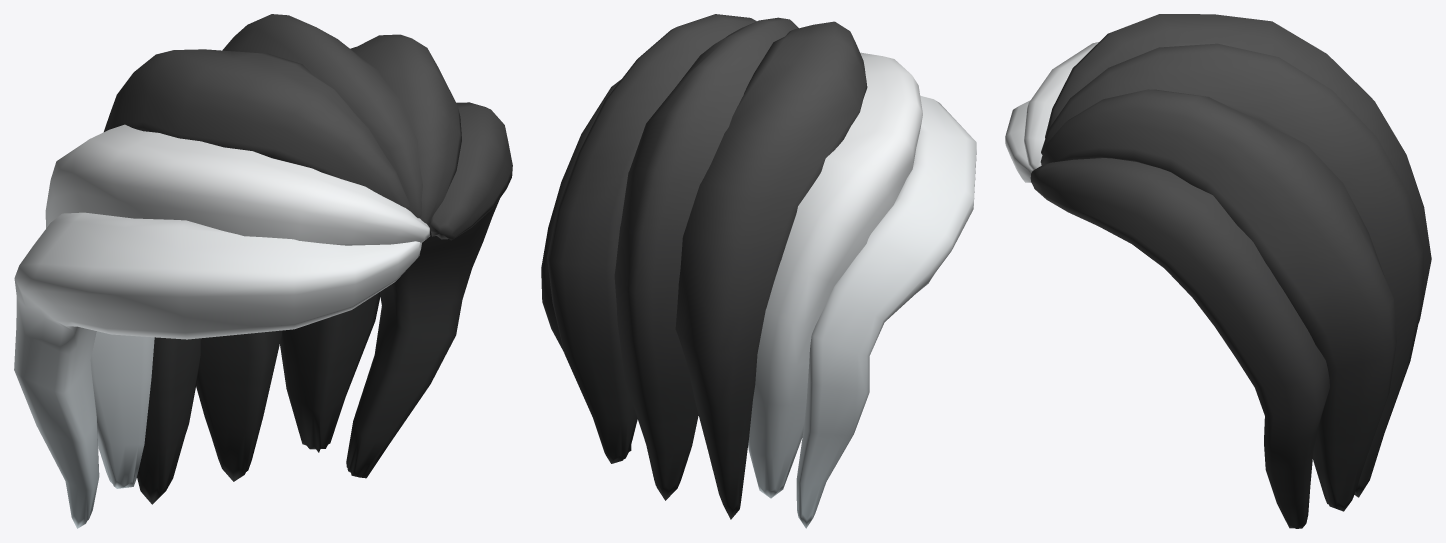
Rendered from Hairstyle_Female_02.glb.
3 views of the same model, side by side, from view 1: azimuth 30°, elevation 25°; view 2: azimuth 150°, elevation 25°; view 3: azimuth 270°, elevation 25° (orthographic). The views are drawn at different scales.
Visible parts, largest first — view 1: Hairstyle_Female_02; view 2: Hairstyle_Female_02; view 3: Hairstyle_Female_02.
Part boxes in pixels (x1,y1,x2,y2): Hairstyle_Female_02: [14, 14, 512, 528]; Hairstyle_Female_02: [541, 14, 976, 528]; Hairstyle_Female_02: [1005, 14, 1431, 528].
Bounding box in the file's own units: 0.7045 × 0.7496 × 0.6432.
1 material, 1 textured.
